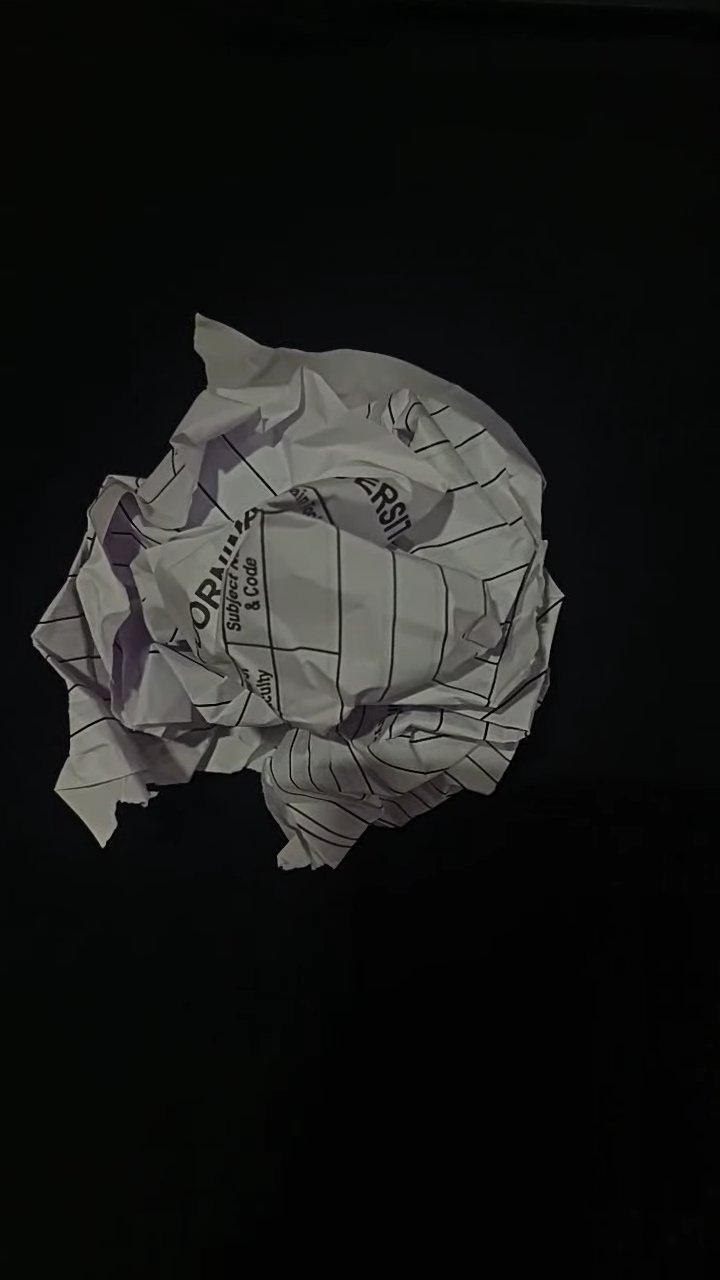PaperBall: (14, 300, 586, 890)
